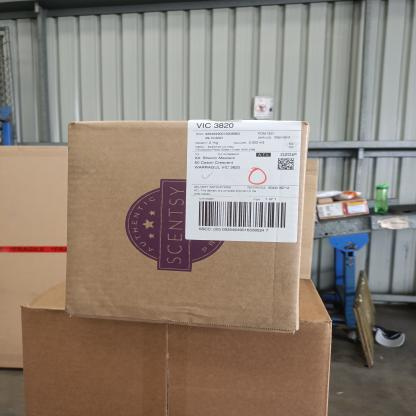label: (184, 113, 309, 256)
package: (62, 110, 315, 335), (8, 276, 345, 416)
